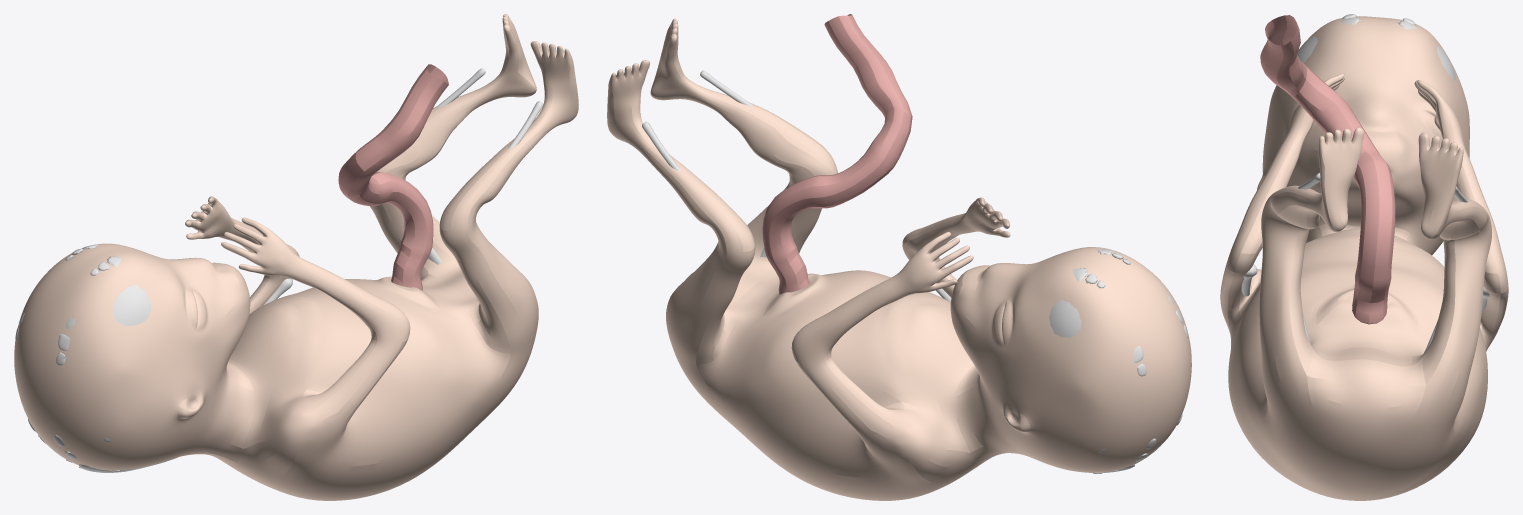
The model's file is week40.glb.
The picture shows the model from 3 angles, left to right: view 1: azimuth 30°, elevation 25°; view 2: azimuth 150°, elevation 25°; view 3: azimuth 270°, elevation 25°; orthographic projection. The views are drawn at different scales.
Parts seen in each view (by area): view 1: FetusBody_Skin_Master, UmbilicalCord_Master, skull, legbones; view 2: FetusBody_Skin_Master, UmbilicalCord_Master, skull, legbones; view 3: FetusBody_Skin_Master, UmbilicalCord_Master, skull, legbones, handbones.
Part boxes in pixels (x1,y1,x2,y2): FetusBody_Skin_Master: [14, 14, 578, 500]; UmbilicalCord_Master: [338, 64, 448, 290]; skull: [15, 244, 177, 472]; legbones: [428, 68, 543, 264]; FetusBody_Skin_Master: [607, 18, 1191, 500]; UmbilicalCord_Master: [762, 14, 912, 294]; skull: [1049, 249, 1187, 473]; legbones: [642, 70, 766, 257]; FetusBody_Skin_Master: [1220, 16, 1508, 500]; UmbilicalCord_Master: [1260, 15, 1395, 324]; skull: [1297, 14, 1455, 80]; legbones: [1298, 173, 1468, 353]; handbones: [1241, 264, 1489, 312].
Size of the model in its own units: 0.9731 by 0.7432 by 0.3924.
